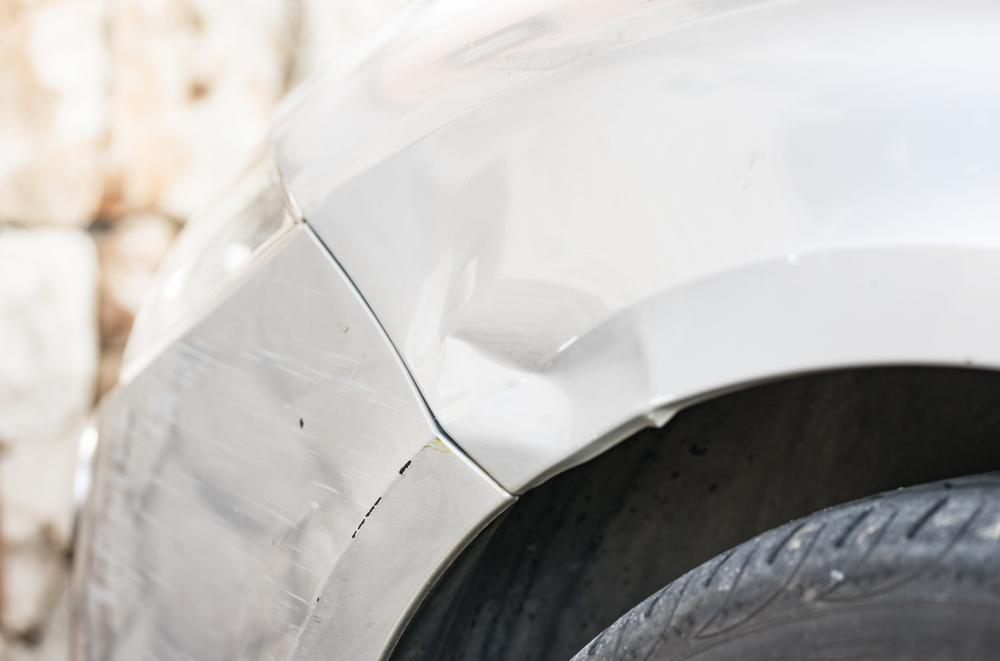dent: (410, 162, 653, 490)
scratch: (80, 313, 436, 661)
